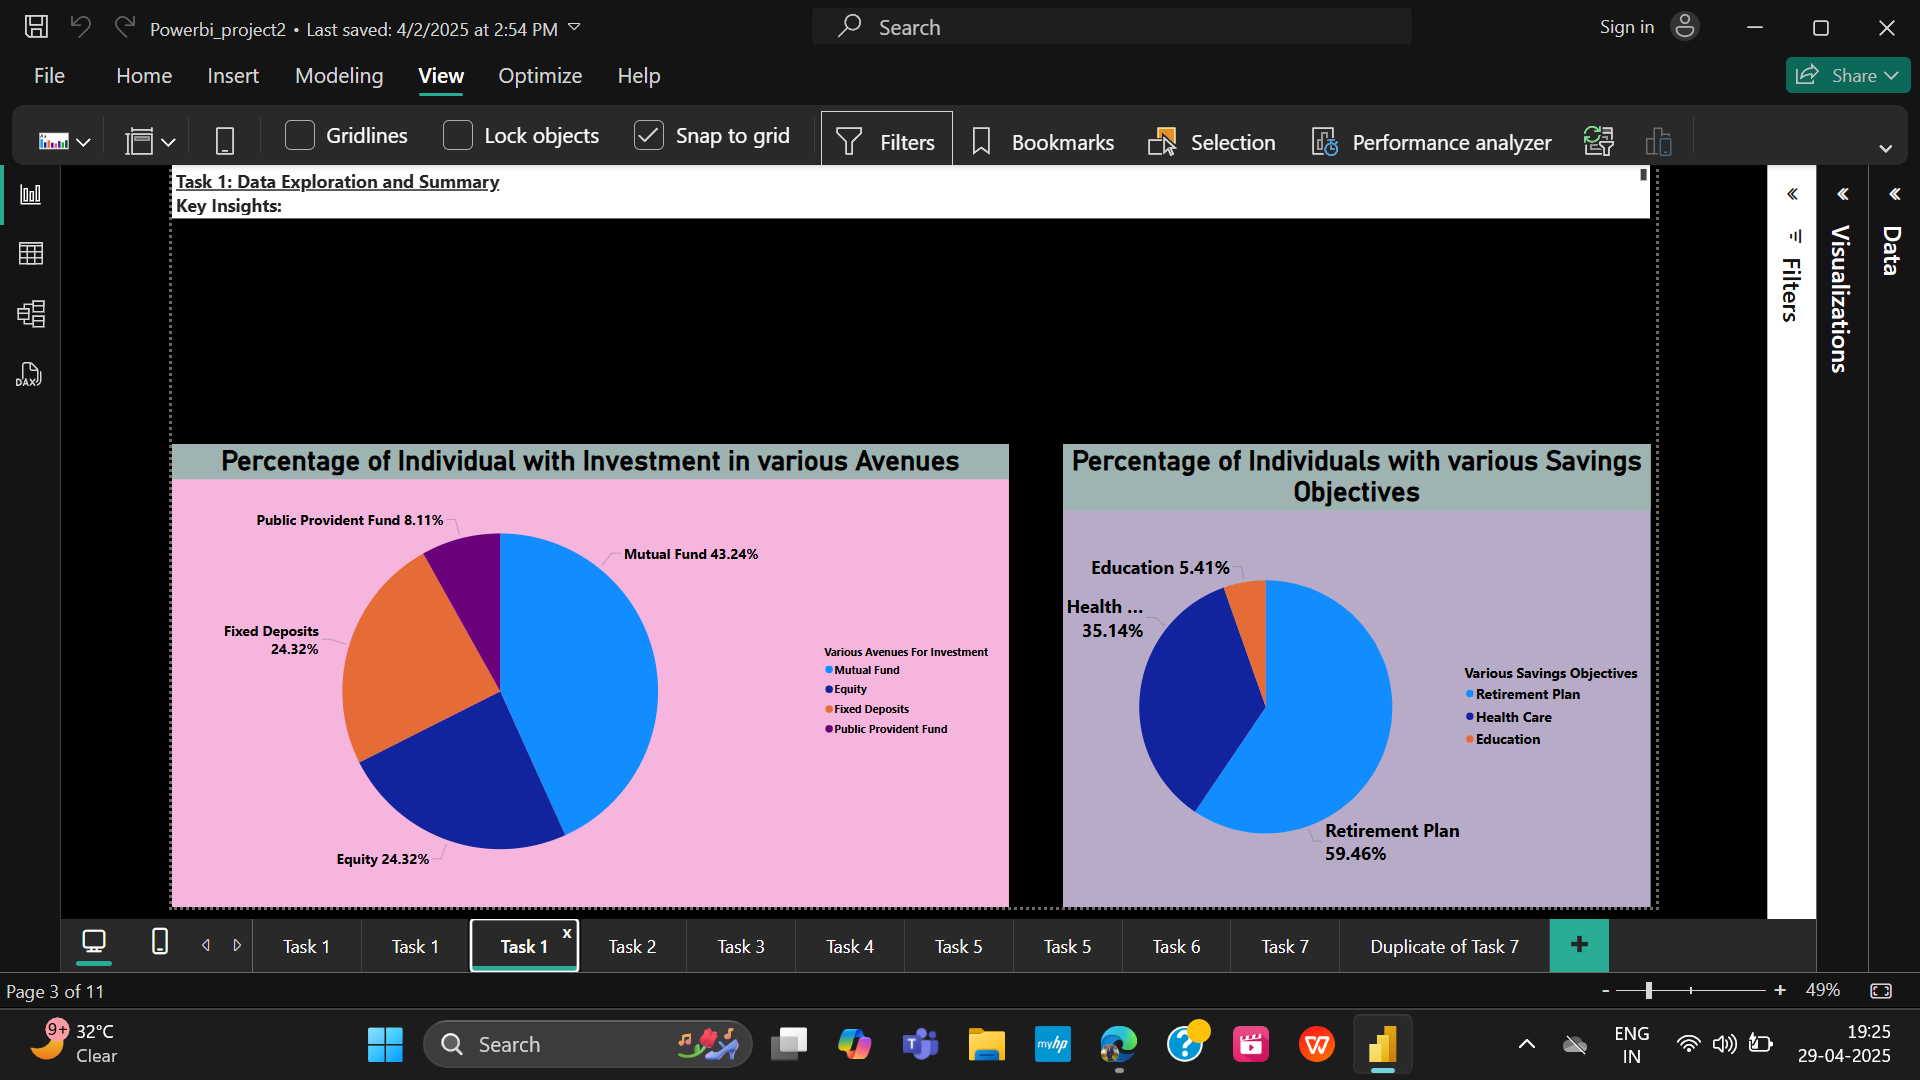

The page's visual inventory and layout, read from the dashboard file:
{"tool":"powerbi","page":{"name":"Task 1","canvas":[2000,1000],"ordinal":2},"visuals":[{"type":"pieChart","title":"Percentage of Individual with Investment in various Avenues ","fields":{"Category":["Data_set 2.Avenue"],"Y":["CountNonNull(Data_set 2.Avenue)"]},"box":[0,376,1128,624],"z":0},{"type":"pieChart","title":"Percentage of Individuals with various Savings Objectives","fields":{"Category":["Data_set 2.What are your savings objectives?"],"Y":["CountNonNull(Data_set 2.What are your savings objectives?)"]},"box":[1200,376,792,624],"z":1000},{"type":"textbox","box":[0,0,1992,72],"z":2000}]}

Visuals, with their boxes on the page's 2000x1000 design canvas (x1, y1, x2, y2). These are canvas units, not pixel positions in the 1920x1080 screenshot, which may show the page scaled, cropped or inside an application window:
"Percentage of Individual with Investment in various Avenues " pieChart: pyautogui.locateOnScreen(0, 376, 1128, 1000)
"Percentage of Individuals with various Savings Objectives" pieChart: pyautogui.locateOnScreen(1200, 376, 1992, 1000)
textbox: pyautogui.locateOnScreen(0, 0, 1992, 72)
